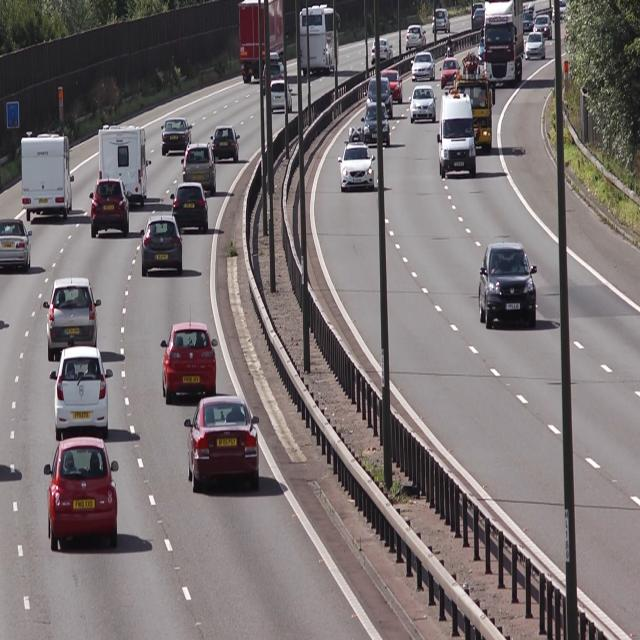Car: (44, 436, 120, 553), (185, 399, 259, 489), (49, 344, 112, 440), (477, 239, 538, 331), (43, 274, 102, 356), (22, 130, 74, 222), (98, 123, 152, 205), (238, 0, 288, 81), (454, 57, 494, 152), (482, 0, 525, 85), (439, 86, 476, 175), (301, 2, 341, 74), (140, 214, 184, 278), (339, 126, 377, 194), (90, 181, 132, 237), (0, 219, 35, 276), (172, 181, 210, 231), (181, 145, 217, 194), (210, 121, 240, 166), (362, 103, 392, 148), (161, 116, 193, 155), (368, 73, 393, 118), (407, 85, 437, 121), (382, 65, 404, 106), (411, 47, 436, 83), (270, 79, 294, 115), (524, 30, 546, 65), (441, 53, 461, 87)
